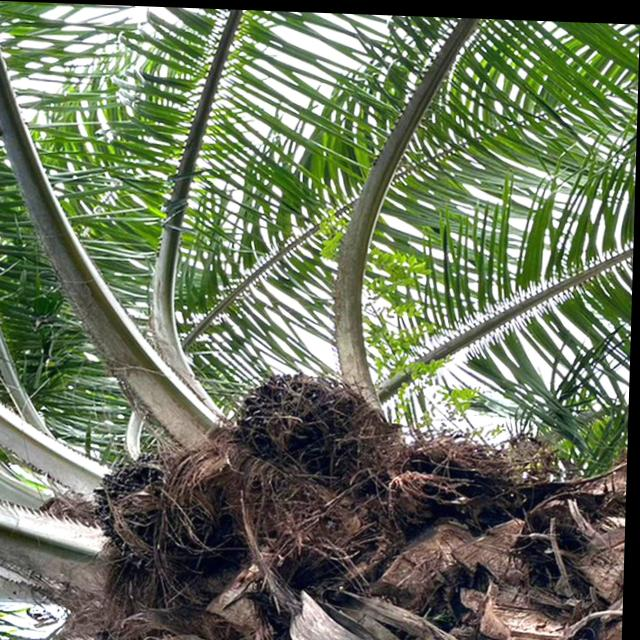almost: (229, 364, 371, 478), (90, 447, 215, 569)
